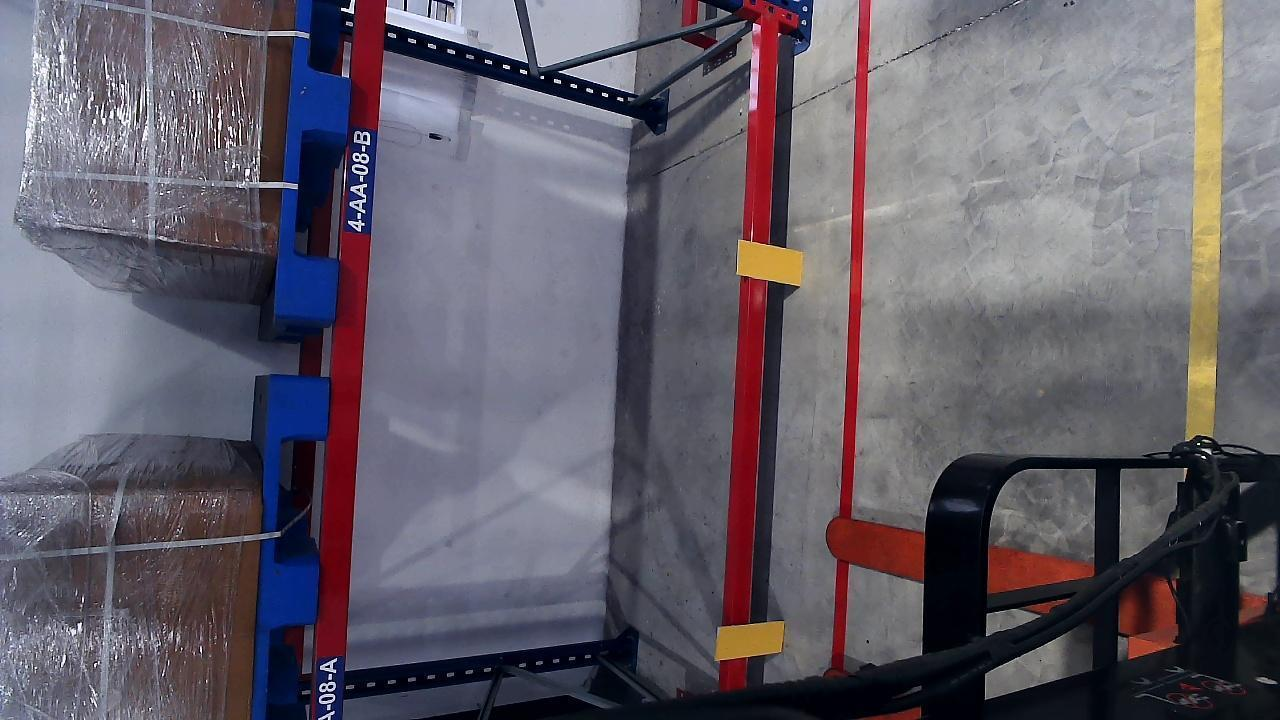red_line: (835, 11, 871, 625)
yellow_line: (1185, 0, 1224, 438)
